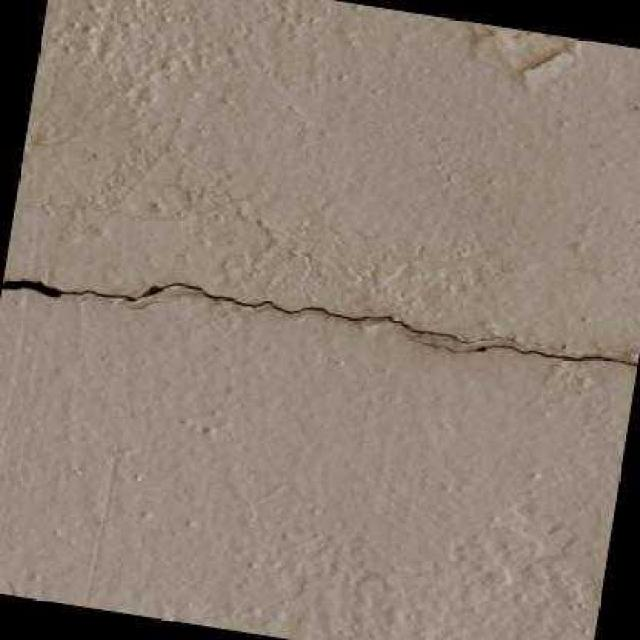D00: (1, 277, 514, 342), (416, 338, 638, 364)
